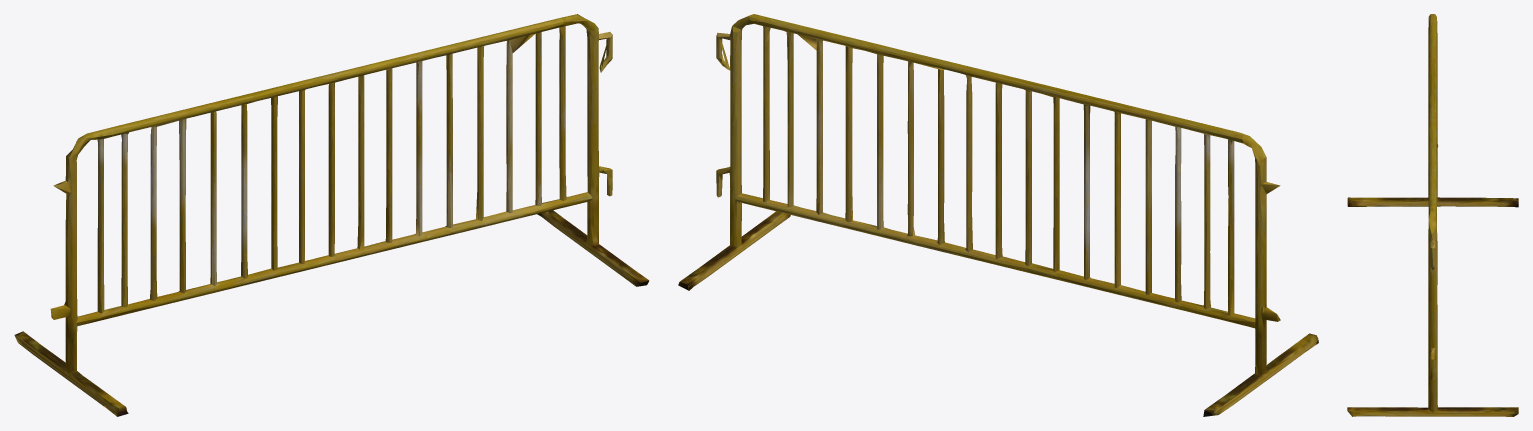
The model's file is barricade_rowing_lod2.glb.
3 renders of one model, left to right at view 1: azimuth 30°, elevation 25°; view 2: azimuth 150°, elevation 25°; view 3: azimuth 270°, elevation 25°, orthographic. The views are drawn at different scales.
Parts seen in each view (by area): view 1: tripo_node_49bfa9d5; view 2: tripo_node_49bfa9d5; view 3: tripo_node_49bfa9d5.
Boxes of the visible parts, box(x1,y1,x2,y2) form: tripo_node_49bfa9d5: box(14, 14, 649, 416); tripo_node_49bfa9d5: box(678, 14, 1318, 416); tripo_node_49bfa9d5: box(1347, 14, 1518, 416).
Bounding box in the file's own units: 99.97 × 41 × 32.25.
Materials: 1 (1 with a texture image).
